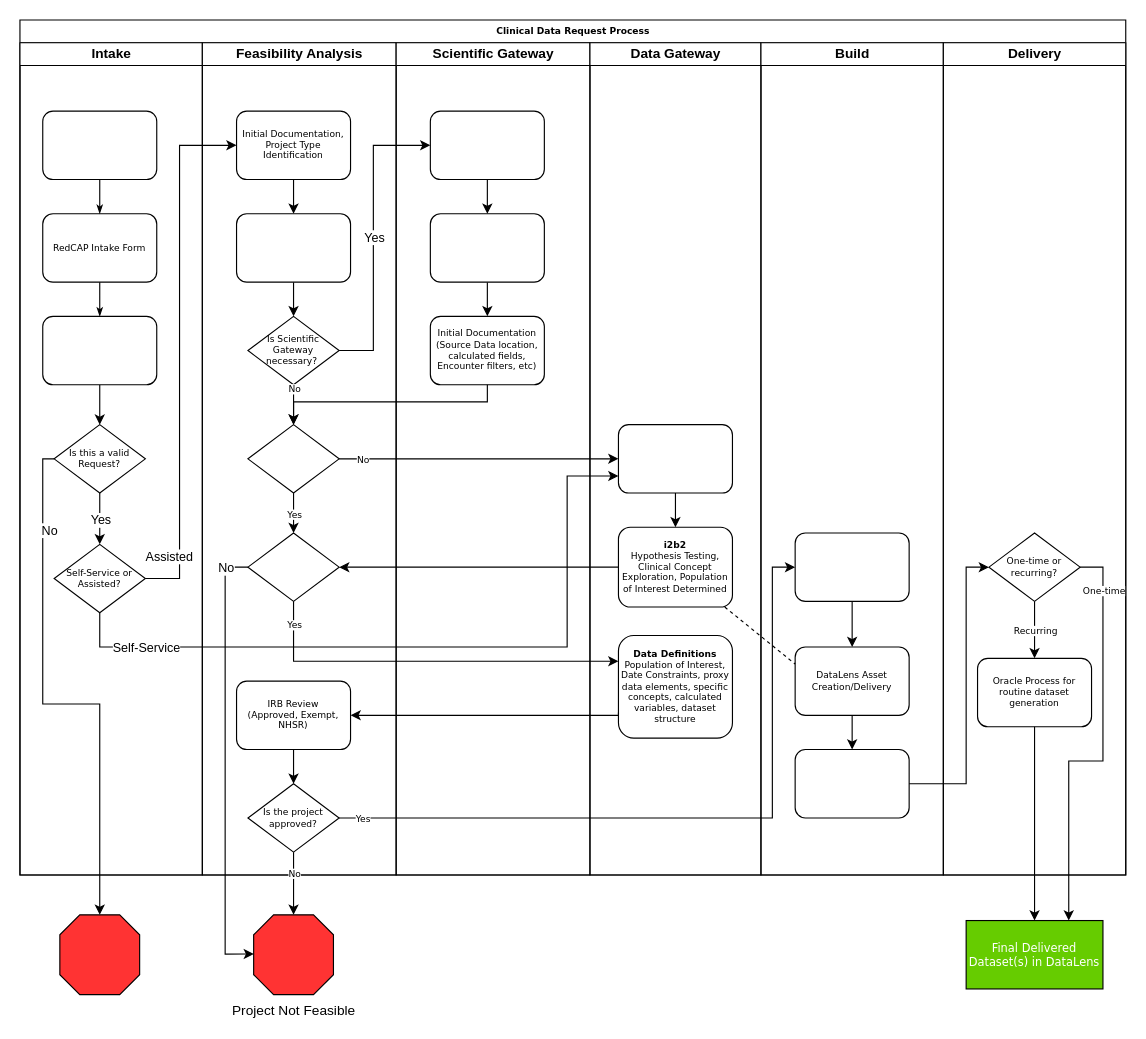
Some shapes in this 1146 by 1039 pixel diagram are drawn without their labels. Here are the shapes that lost their labels. From the top down, the centre of each, then its label:
the point at 99,145: Initial Contact with Requester
the point at 486,145: Evaluation of Methodology, Scientific Need, Design
the point at 293,247: Collaboration & SME Identification
the point at 486,247: Clinical Data Elements/Concepts Review and Determination
the point at 99,350: Triage and Initial Assignment
the point at 293,458: Has initial cohort been defined?
the point at 674,458: Cohort Identification, Cohort Re-use/ Refinement
the point at 293,566: Is the project feasible?
the point at 851,566: Dataset Creation
the point at 851,783: Dataset Refinement and Approval [Feedback Loop]
the point at 99,954: Invalid Request
